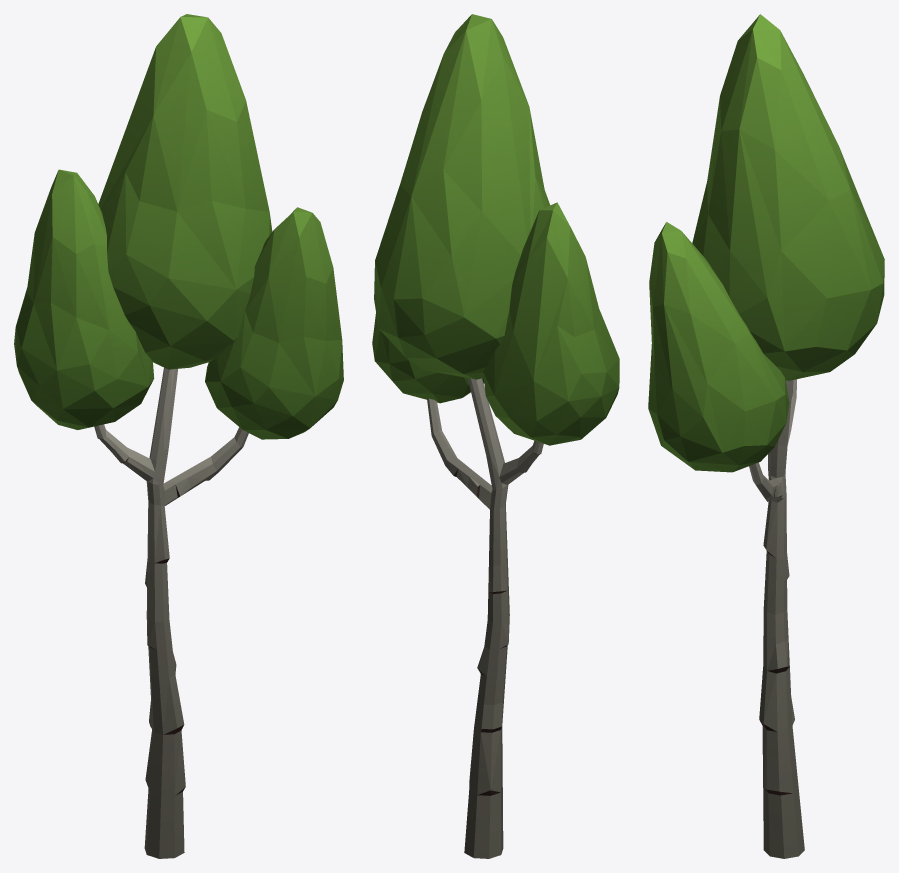
The model's file is ZLP_Plant_J_2.FBX.
The picture shows the model from 3 angles, left to right: view 1: azimuth 30°, elevation 25°; view 2: azimuth 150°, elevation 25°; view 3: azimuth 270°, elevation 25°; orthographic projection. The views are drawn at different scales.
Parts seen in each view (by area): view 1: ZLP_Plant_J_2; view 2: ZLP_Plant_J_2; view 3: ZLP_Plant_J_2.
Part boxes in pixels (x1,y1,x2,y2): ZLP_Plant_J_2: (14, 14, 343, 858); ZLP_Plant_J_2: (372, 14, 619, 858); ZLP_Plant_J_2: (648, 14, 884, 858).
Size of the model in its own units: 303 by 892 by 228.
